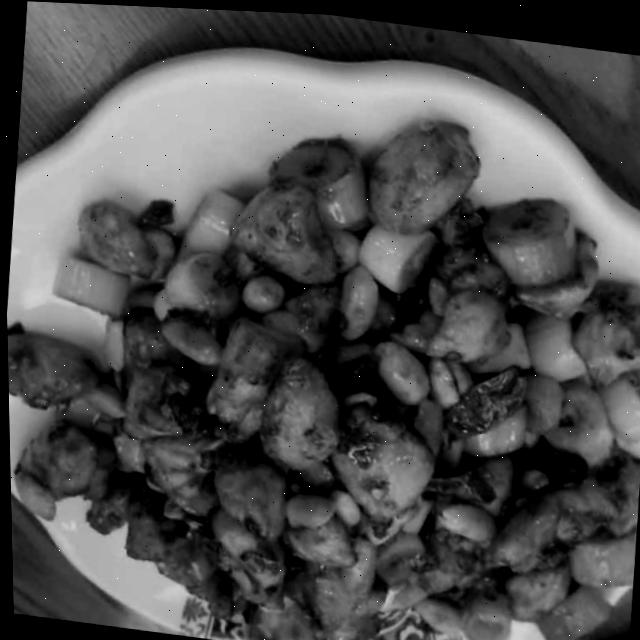鸡肉料理 含炸鸡: (0, 27, 640, 640)
